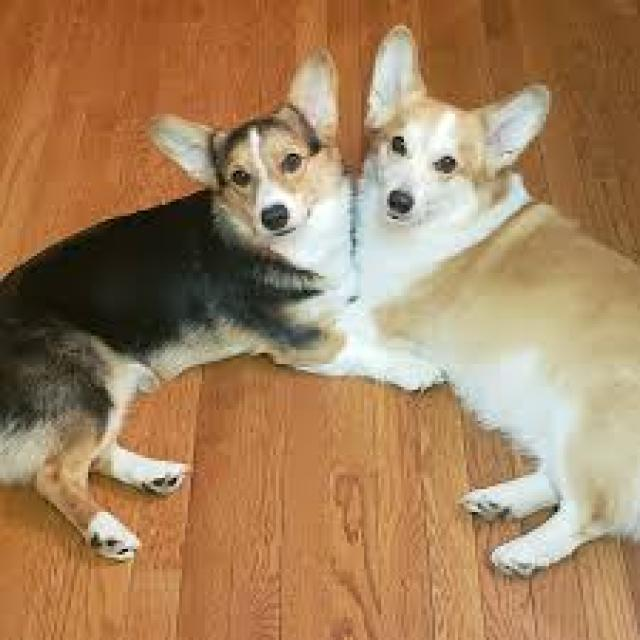CORGI: (0, 57, 432, 596), (358, 33, 640, 590)
